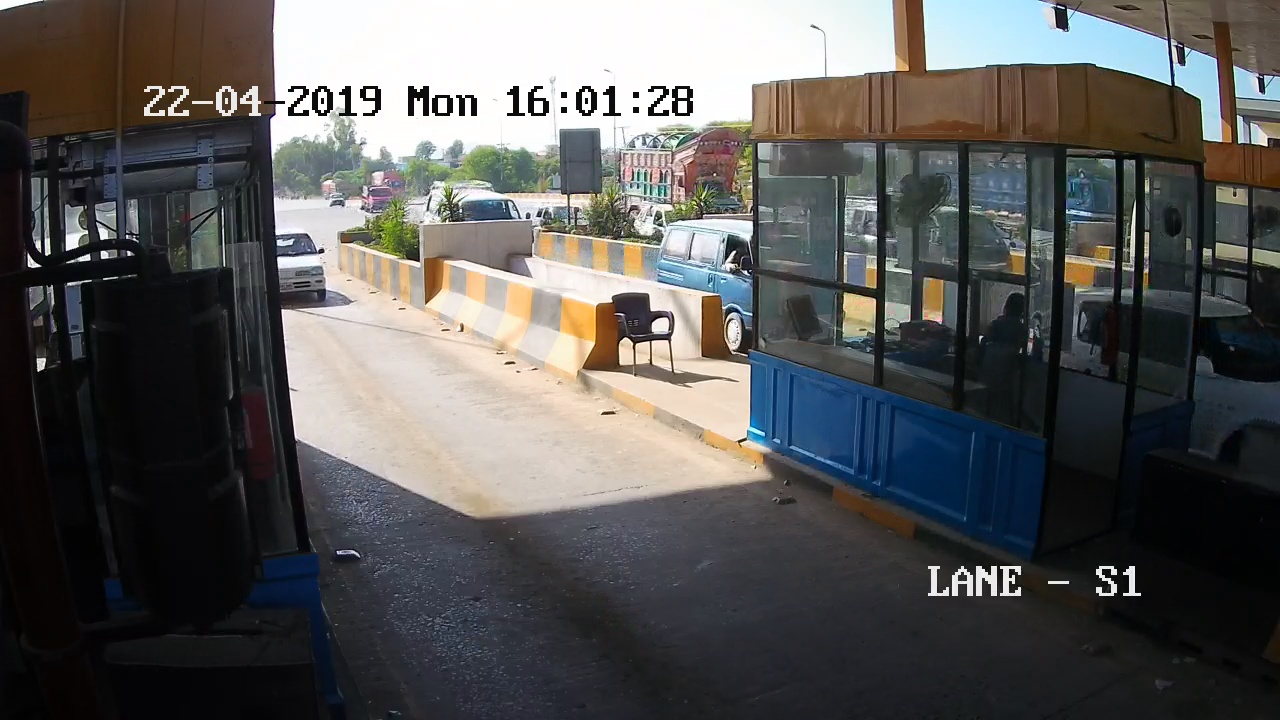car: (277, 224, 332, 320)
